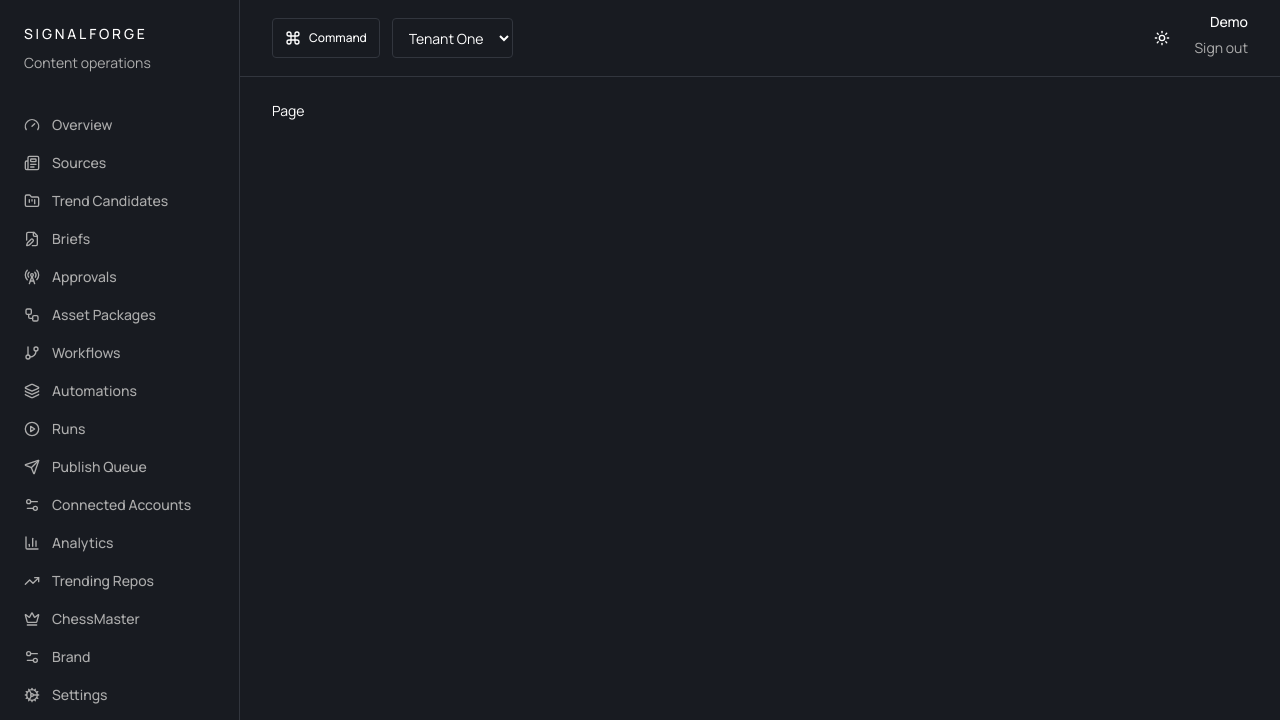
Test case: mobile navigation and accessible controls › lists all authorized destinations in the command palette
The width and height of the screenshot is (1280, 720).
Step 1. Click the button with aria-label "Open command palette" → [326, 38], box top-left (272, 18), bottom-right (380, 58)
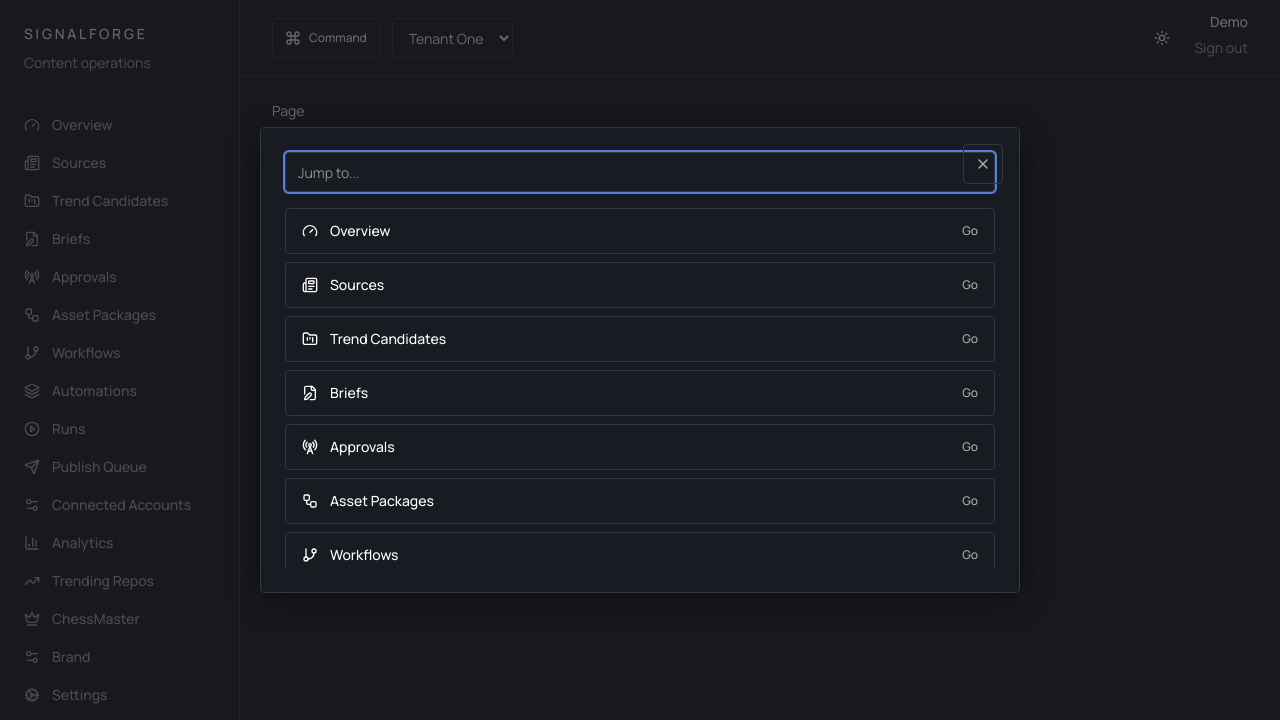
expect the field named "Search destinations" is shown: met, box top-left (285, 152), bottom-right (995, 192)
expect the option "Briefs Go" is shown: met, box top-left (285, 370), bottom-right (995, 416)
expect the button named "Close dialog" is shown: met, box top-left (963, 144), bottom-right (1003, 184)
